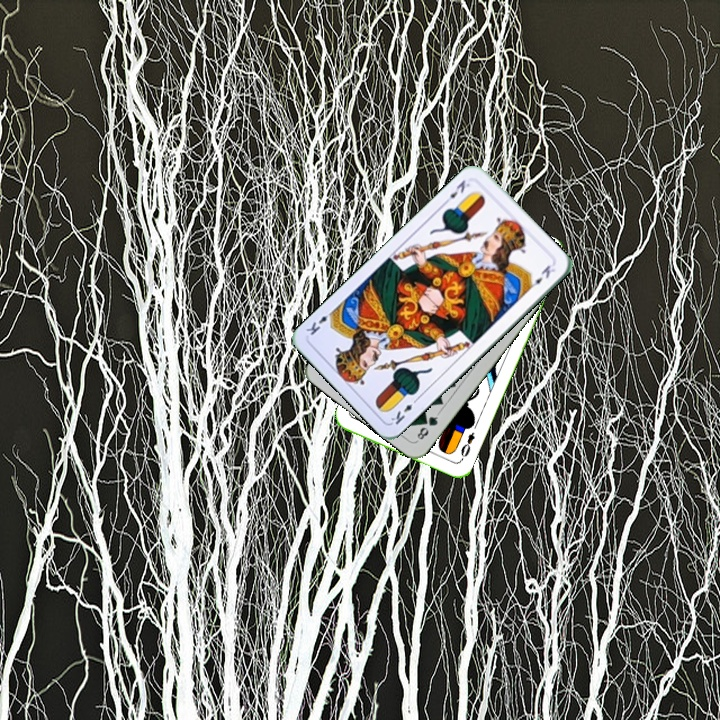EK: (387, 394, 421, 427), (440, 176, 473, 207)
EO: (456, 428, 477, 463)
G8: (413, 409, 442, 444)
